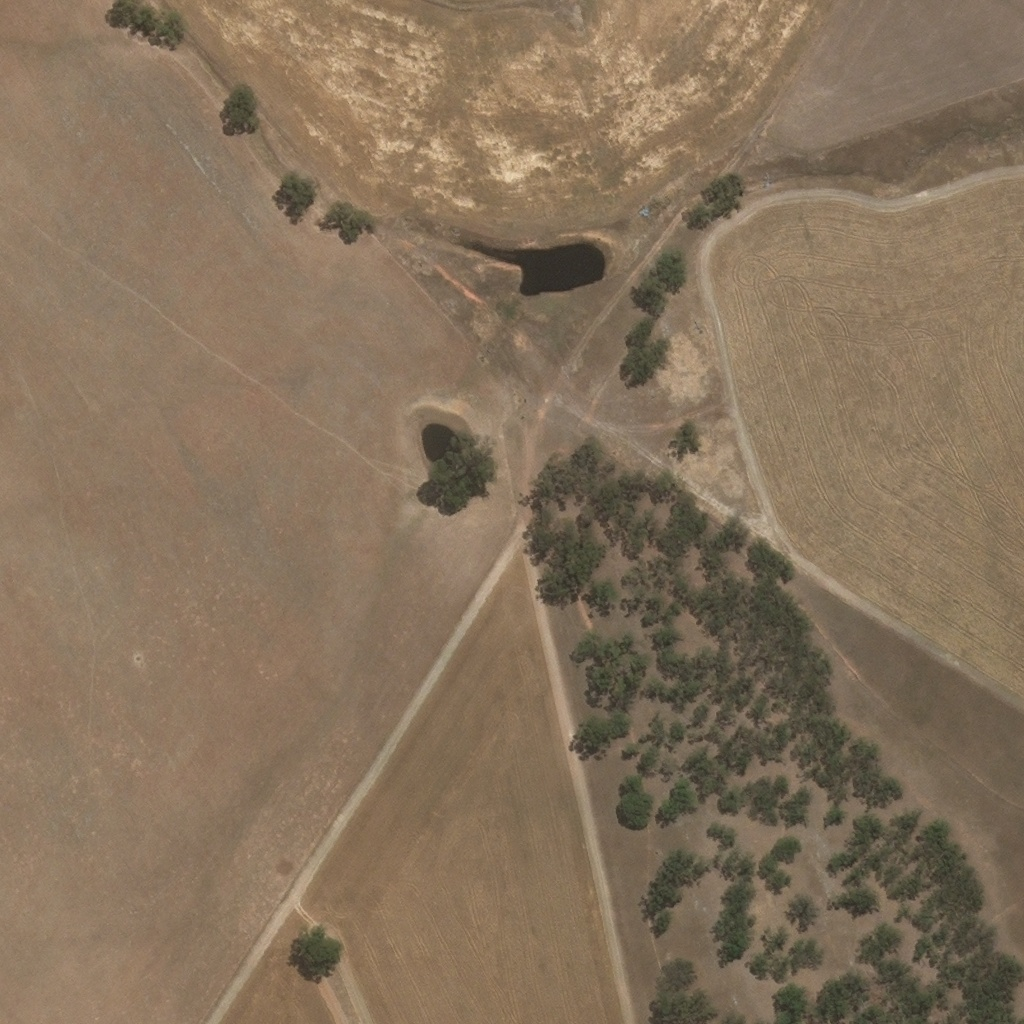4 un-classified: (327, 314, 338, 325)
